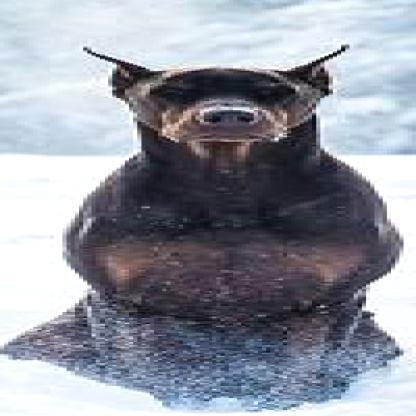dog: (4, 42, 408, 409)
